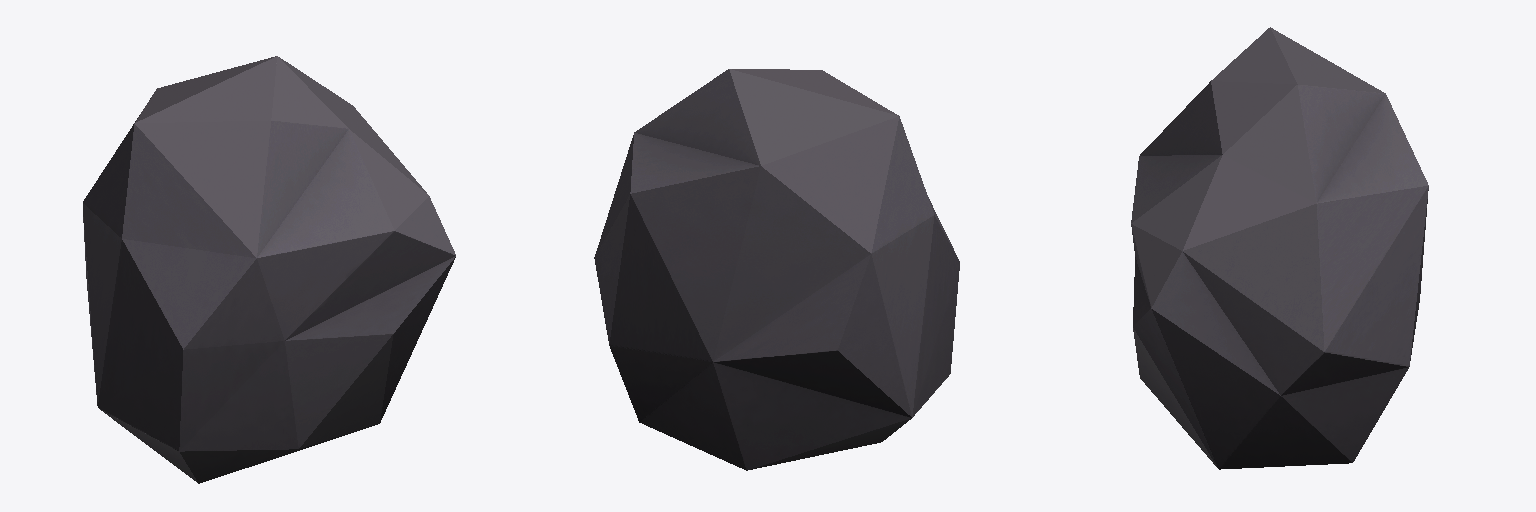
3 renders of one model, left to right at view 1: azimuth 30°, elevation 25°; view 2: azimuth 150°, elevation 25°; view 3: azimuth 270°, elevation 25°, orthographic.
Parts seen in each view (by area): view 1: Plane002; view 2: Plane002; view 3: Plane002.
Part boxes in pixels (left/top/right/bottom): Plane002: left=83, top=56, right=455, bottom=483; Plane002: left=594, top=69, right=959, bottom=470; Plane002: left=1131, top=27, right=1428, bottom=469.
Bounding box in the file's own units: 52 × 61.16 × 44.31.
1 materials, 1 textured.